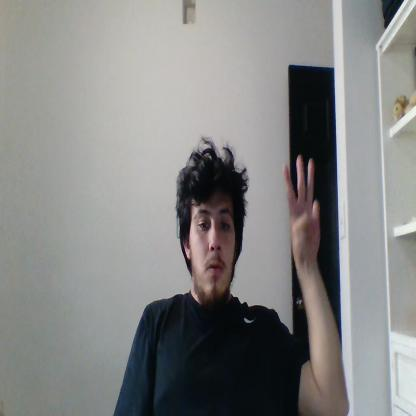W: (283, 156, 320, 262)
